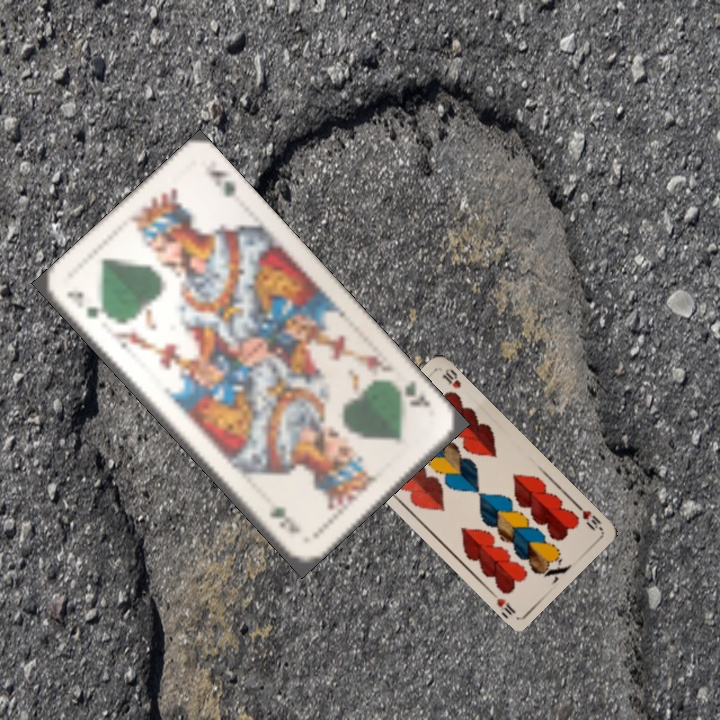GK: (63, 286, 102, 322), (400, 375, 433, 410)
H10: (571, 499, 604, 533)
